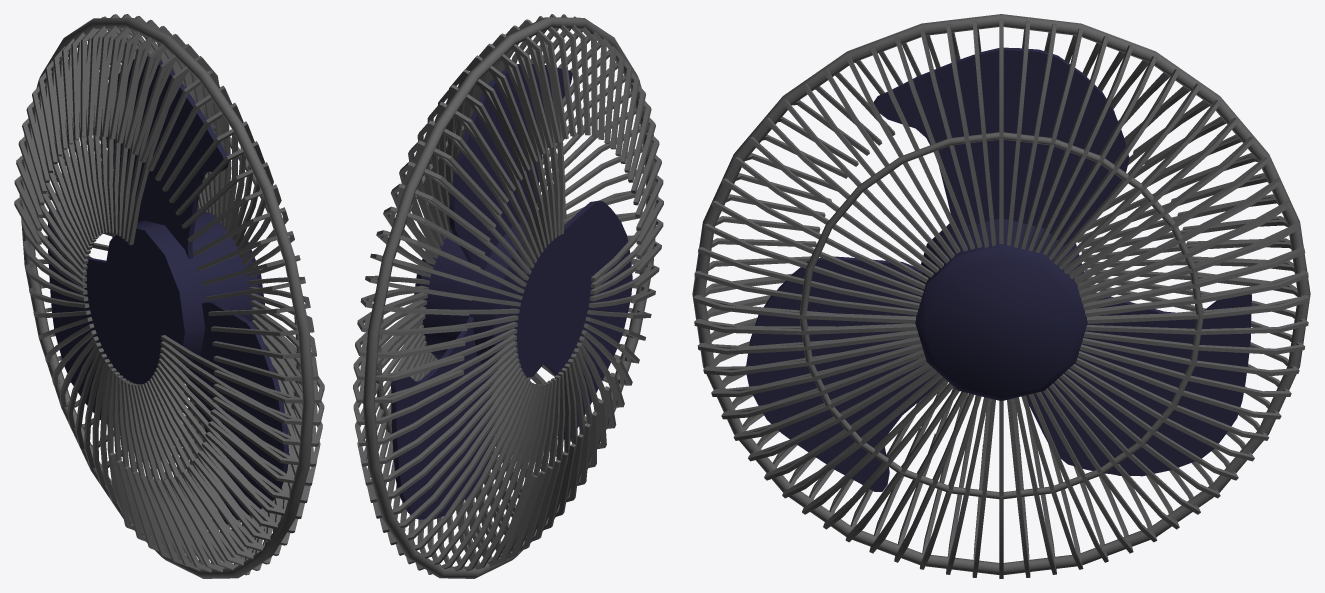
Rendered from ventilotorrrr.fbx.
The picture shows the model from 3 angles, left to right: view 1: azimuth 30°, elevation 25°; view 2: azimuth 150°, elevation 25°; view 3: azimuth 270°, elevation 25°; orthographic projection. The views are drawn at different scales.
Parts seen in each view (by area): view 1: Line048, Cylinder004; view 2: Line048, Cylinder004; view 3: Line048, Cylinder004.
Boxes of the visible parts, box(x1,y1,x2,y2) form: Line048: box(14, 14, 324, 578); Cylinder004: box(48, 55, 289, 524); Line048: box(353, 14, 663, 578); Cylinder004: box(391, 64, 632, 519); Line048: box(692, 14, 1310, 578); Cylinder004: box(746, 47, 1251, 491).
Size of the model in its own units: 228 by 1057 by 1057.
